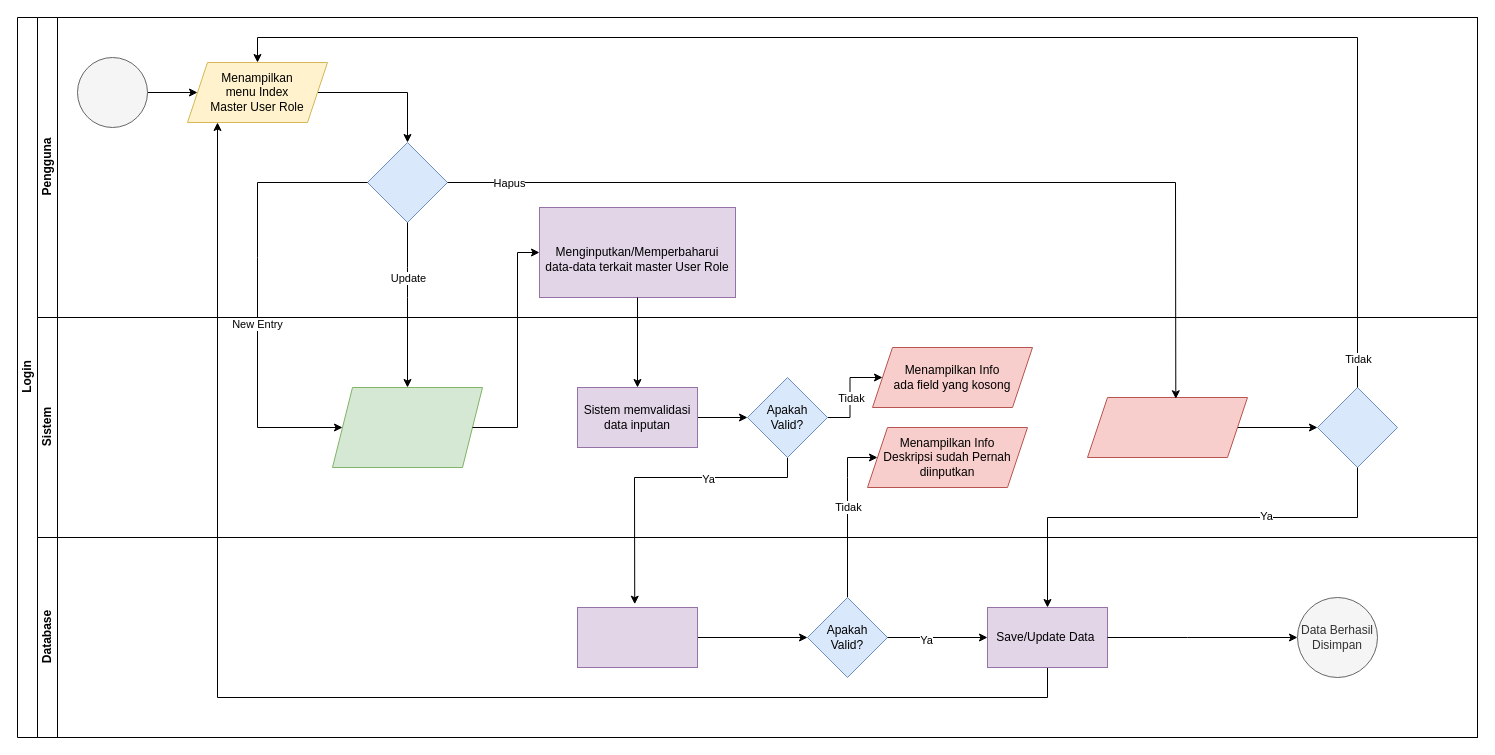
Some shapes in this 1495 by 755 pixel diagram are drawn without their labels. Here are the shapes that lost their labels. From the top down, the centre of each, then its label:
At point 112,92: "User Memilih menu user role".
At point 407,182: "Pilihan Menu".
At point 407,427: "Menampilkan halaman Entry Or Update".
At point 1167,427: "Menampilkan Info Anda yakin ingin menghapus data?".
At point 1357,427: "Anda Yakin?".
At point 637,637: "Cek Data didatabase".
